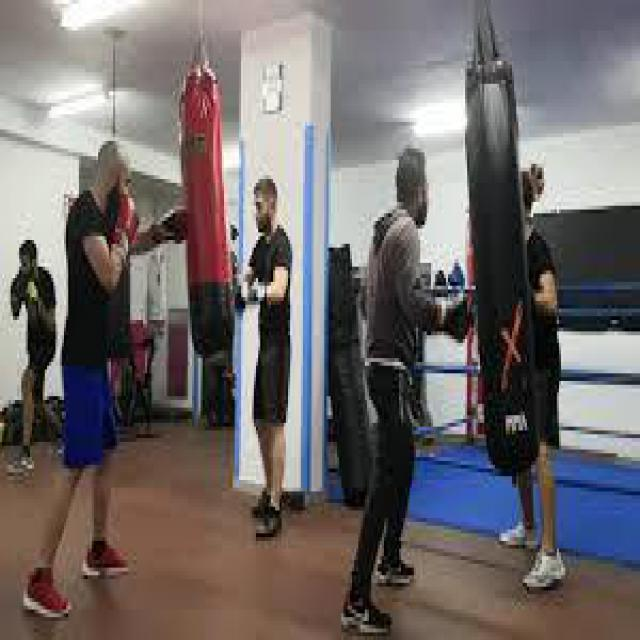Punching Bag: (450, 53, 544, 484), (169, 50, 241, 377)
